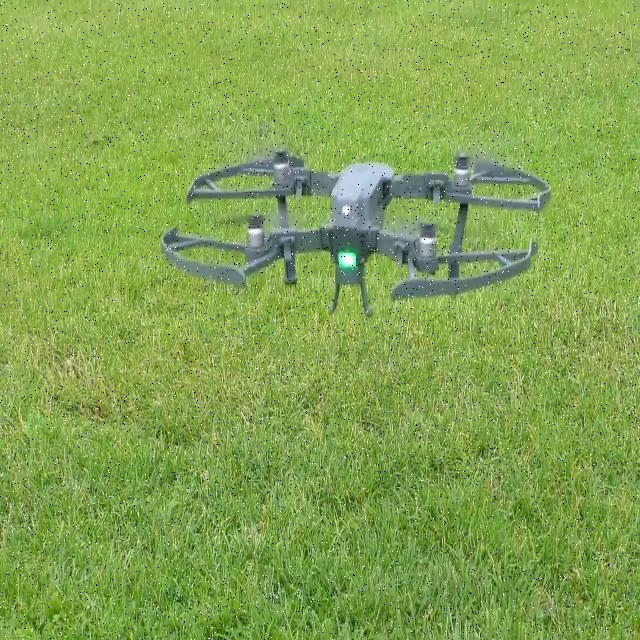UAV: (162, 147, 552, 319)
